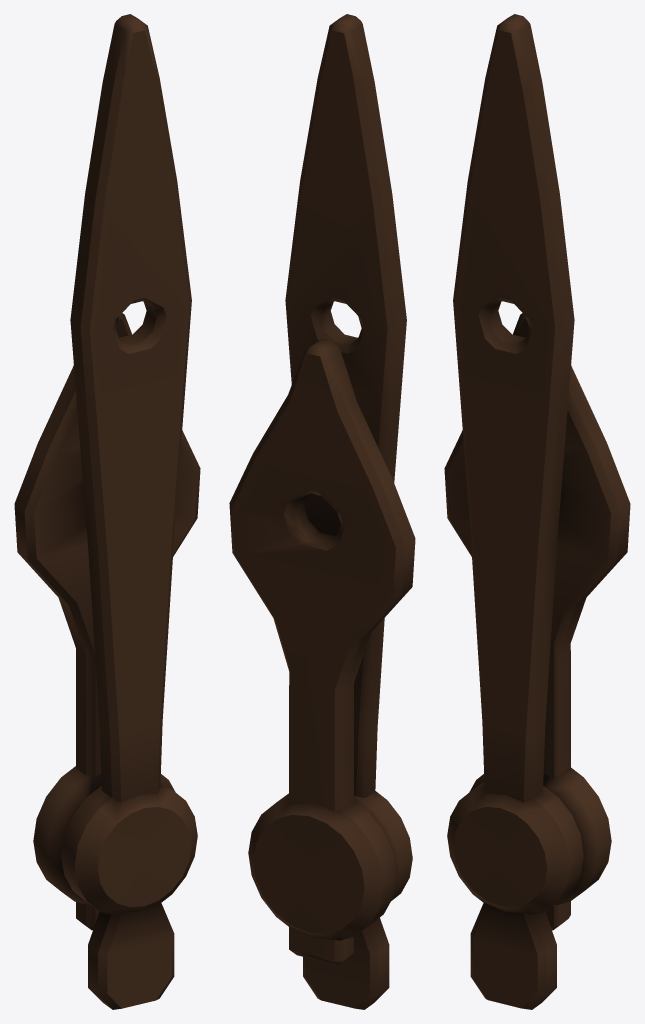
The model's file is clock_hands.glb.
3 renders of one model, left to right at view 1: azimuth 30°, elevation 25°; view 2: azimuth 150°, elevation 25°; view 3: azimuth 330°, elevation 25°, orthographic.
Visible parts, largest first — view 1: ClockHands_Minute, ClockHands_Hour; view 2: ClockHands_Hour, ClockHands_Minute; view 3: ClockHands_Minute, ClockHands_Hour.
Boxes of the visible parts, left/top/right/bottom form: ClockHands_Minute: left=61, top=14, right=197, bottom=1009; ClockHands_Hour: left=14, top=313, right=200, bottom=930; ClockHands_Hour: left=229, top=338, right=415, bottom=964; ClockHands_Minute: left=285, top=14, right=412, bottom=1009; ClockHands_Minute: left=447, top=14, right=583, bottom=1009; ClockHands_Hour: left=444, top=313, right=630, bottom=930.
Size of the model in its own units: 0.006 by 0.032 by 0.003.
